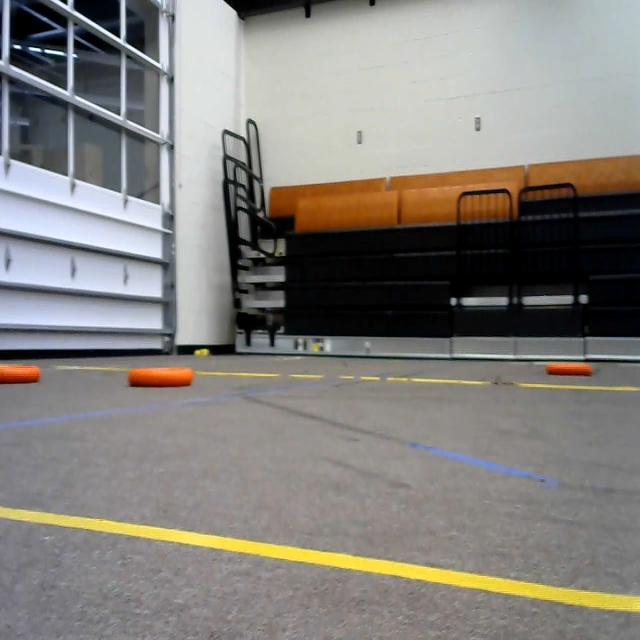note: (124, 362, 196, 393), (0, 353, 43, 387), (545, 360, 598, 382)
